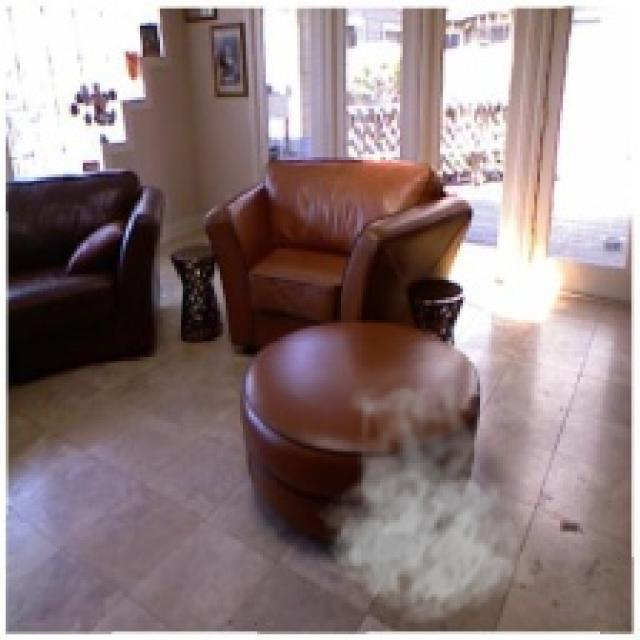Smoke: (312, 366, 532, 626)
